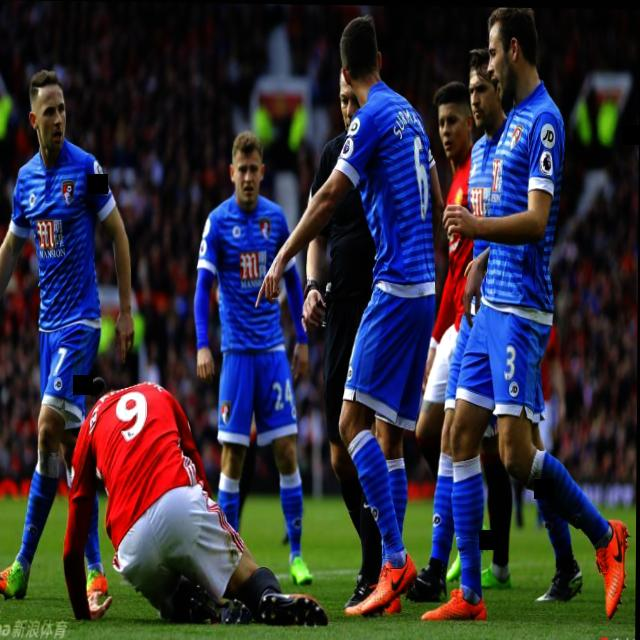Fall-Detected: (57, 359, 335, 637)
